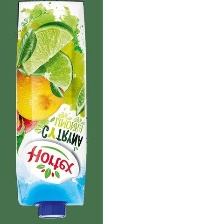carton: (6, 0, 93, 222)
